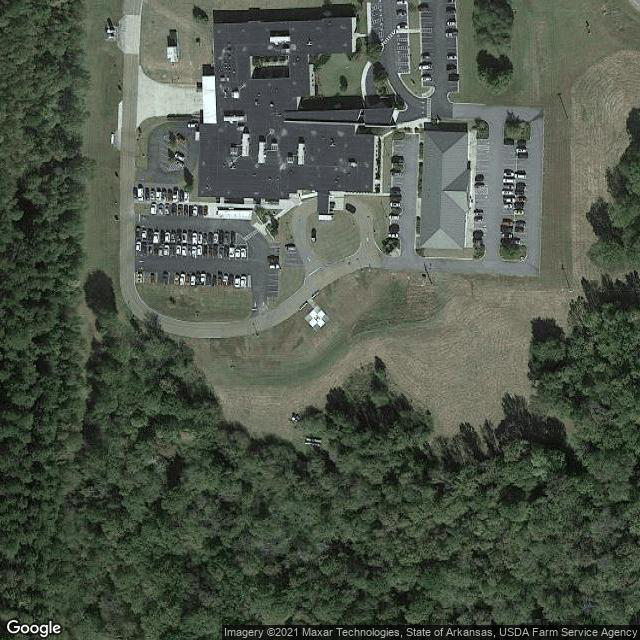Helipad: (303, 304, 331, 331)
